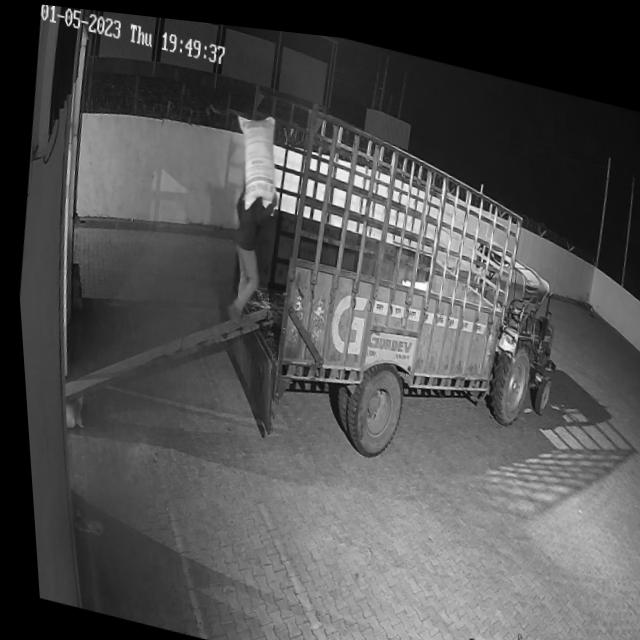sack: (225, 101, 283, 210)
